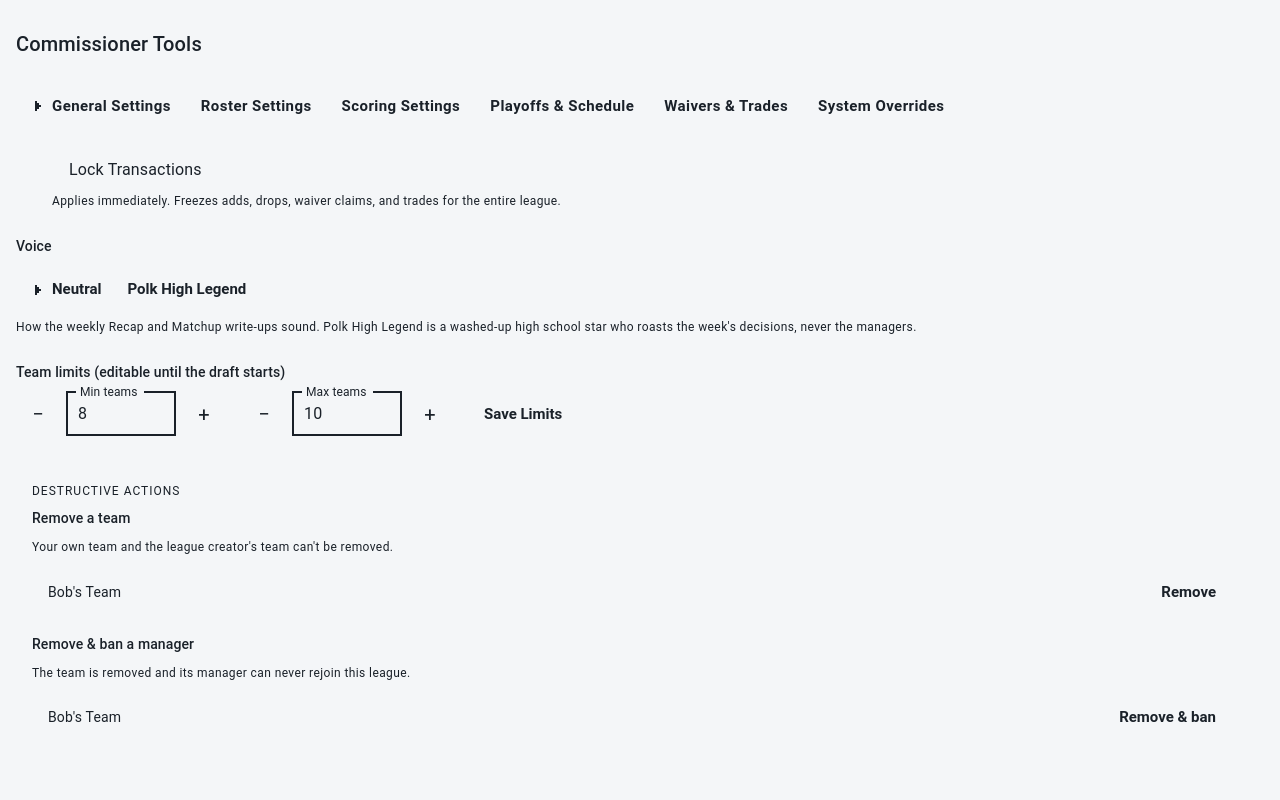
Test: the Waiver and Trade Review radio groups take their accessible name from their label
Click the tab "Waivers & Trades" at (726, 106), box left=648, top=84, right=804, bottom=128
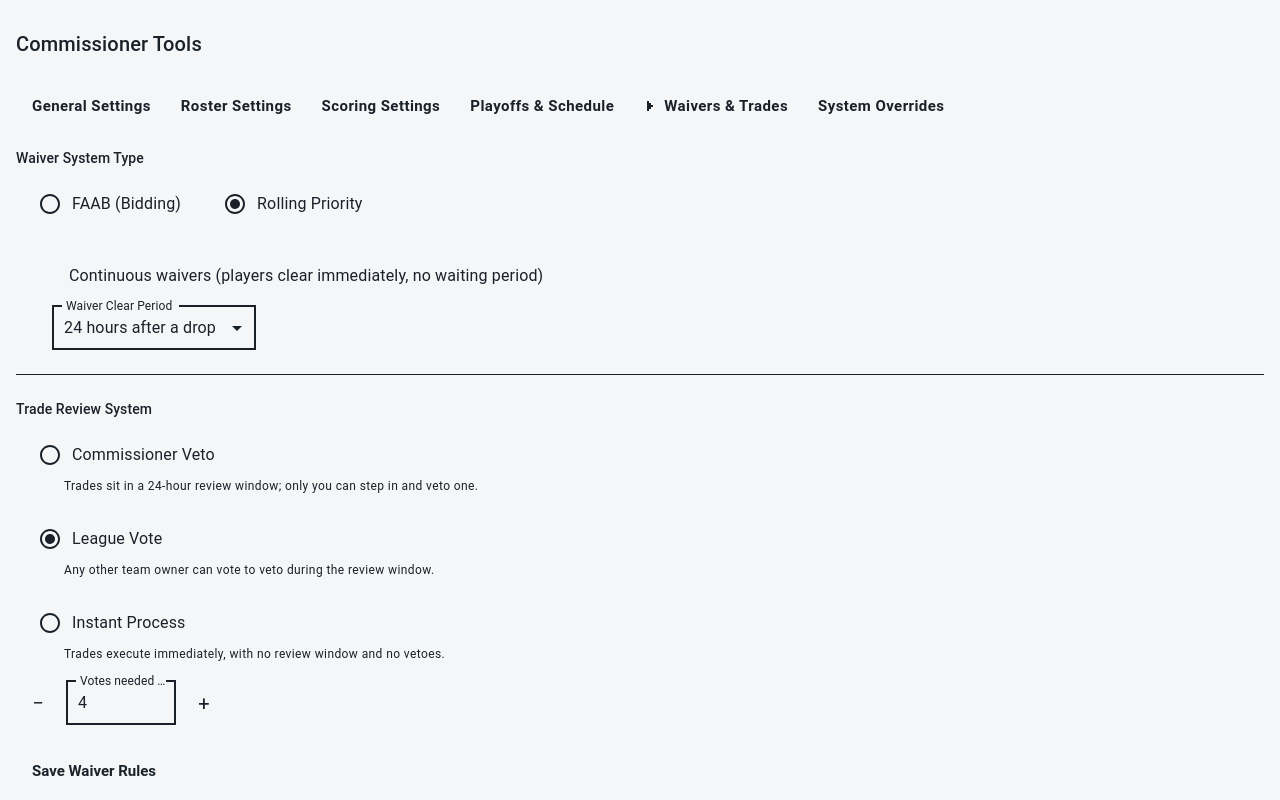
Expected: the element named "Waiver System Type" is shown, left=38, top=192, right=363, bottom=216
Expected: the element named "Trade Review System" is shown, left=38, top=443, right=478, bottom=661
